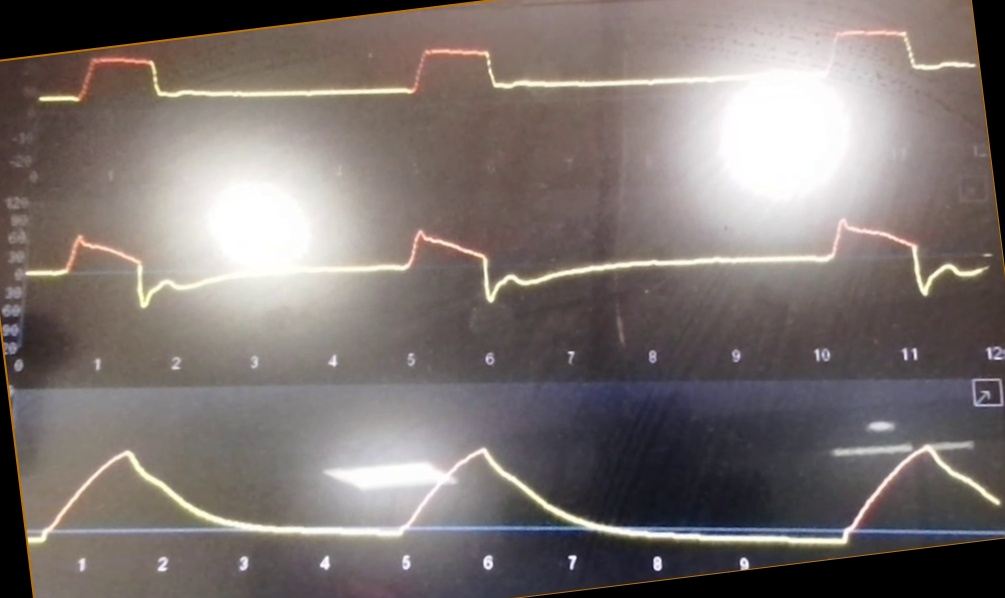Premature_cycling Flow: (28, 197, 993, 316)
Premature_cycling Volume: (29, 428, 998, 549)
